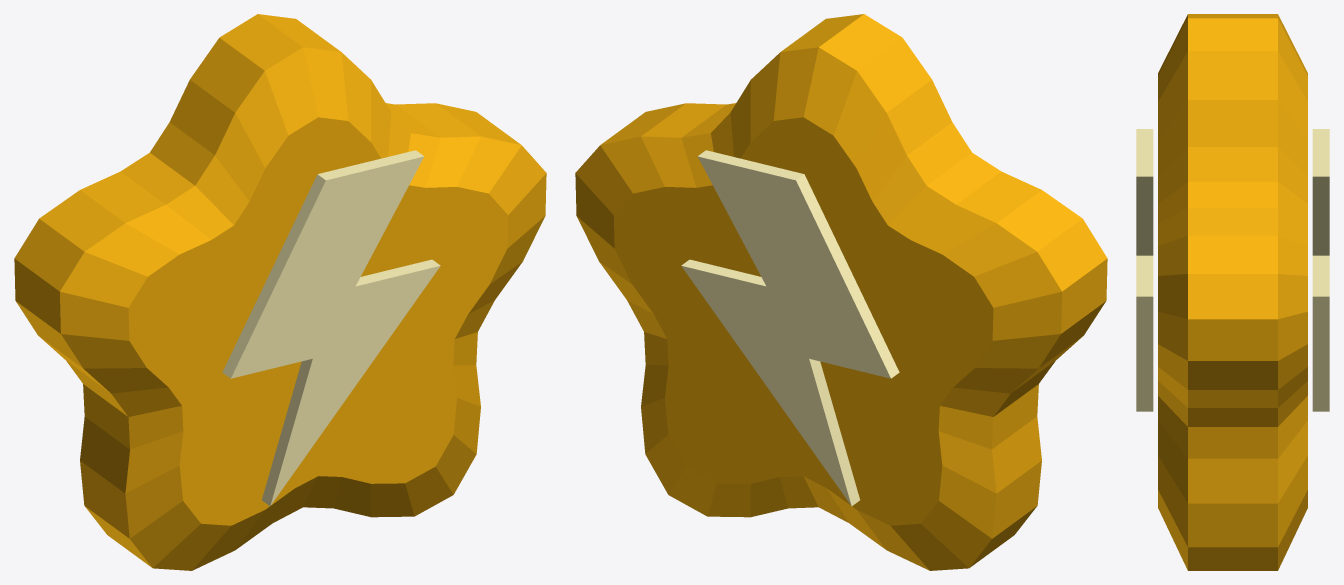
Rendered from copy_essence_thunder.obj.
3 views of the same model, side by side, from view 1: azimuth 30°, elevation 25°; view 2: azimuth 150°, elevation 25°; view 3: azimuth 270°, elevation 25° (orthographic).
Bounding box in the file's own units: 1.48 × 1.45 × 0.515.
